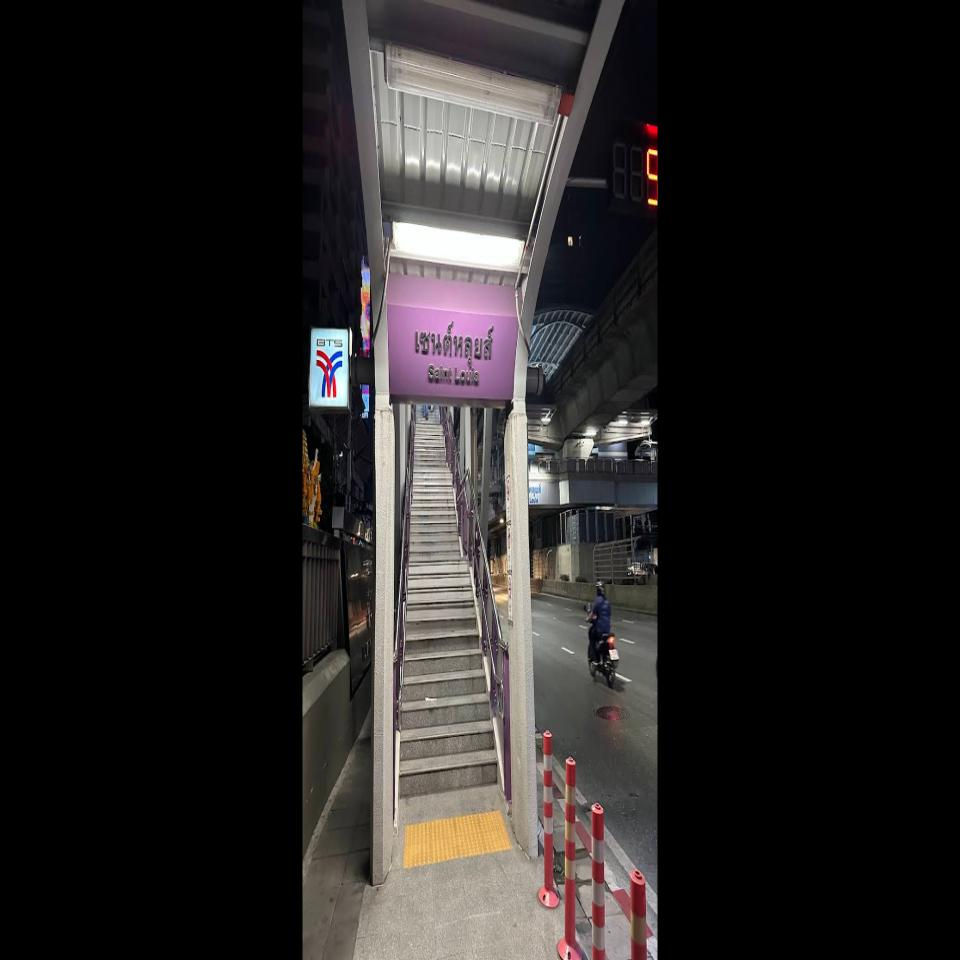signage: (308, 303, 521, 408), (386, 302, 520, 400)
